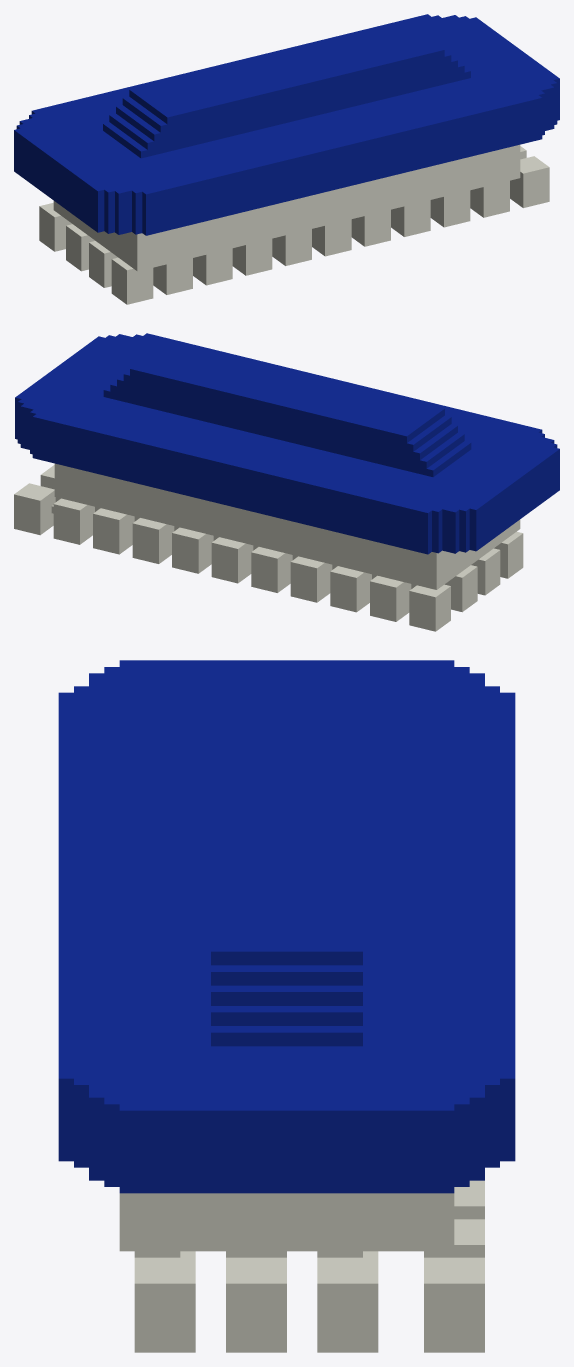
The model's file is brush.glb.
The picture shows the model from 3 angles, top to bottom: view 1: azimuth 30°, elevation 25°; view 2: azimuth 150°, elevation 25°; view 3: azimuth 270°, elevation 25°; orthographic projection. The views are drawn at different scales.
Parts seen in each view (by area): view 1: brush:compound; view 2: brush:compound; view 3: brush:compound.
Part boxes in pixels (bbox=[...]): brush:compound: bbox=[14, 14, 559, 304]; brush:compound: bbox=[14, 333, 559, 631]; brush:compound: bbox=[58, 660, 515, 1352].
Bounding box in the file's own units: 0.14 × 0.046 × 0.06.
